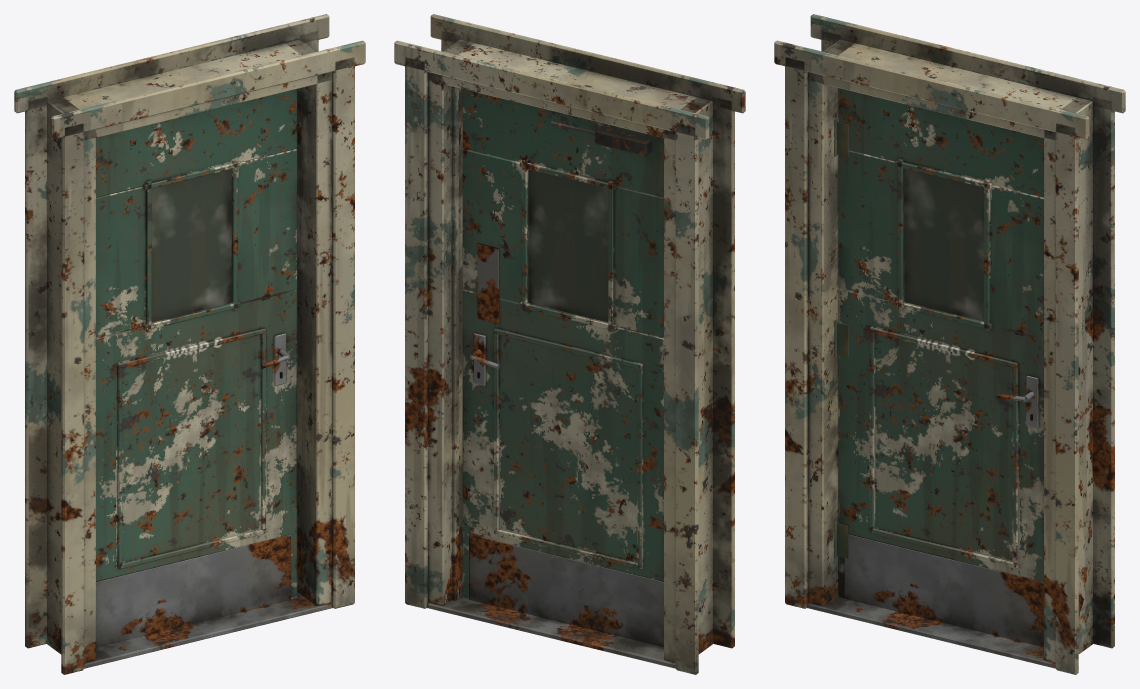
File: WardDoorGreen.fbx
3 renders of one model, left to right at view 1: azimuth 30°, elevation 25°; view 2: azimuth 150°, elevation 25°; view 3: azimuth 330°, elevation 25°, orthographic.
Parts seen in each view (by area): view 1: Door, Frame; view 2: Door, Frame; view 3: Door, Frame.
Boxes of the visible parts, x1,y1,x2,y2 form: Door: (96, 89, 297, 647); Frame: (14, 14, 365, 674); Door: (462, 89, 663, 647); Frame: (394, 14, 745, 674); Door: (834, 88, 1043, 646); Frame: (774, 14, 1125, 674).
Size of the model in its own units: 3.93 by 6.71 by 0.8781.
Materials: 1 (1 with a texture image).
